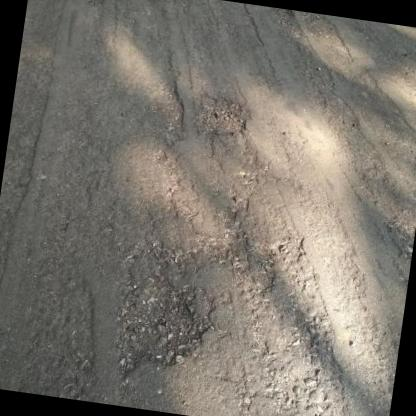pothole: (103, 273, 214, 383), (193, 90, 252, 140), (264, 6, 304, 34), (80, 0, 107, 7)
